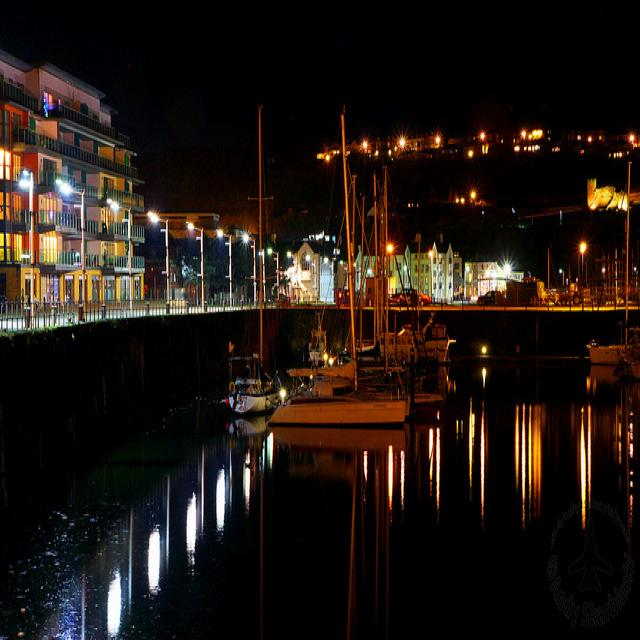Boat: (275, 93, 409, 451), (227, 85, 277, 421), (583, 145, 640, 413)
